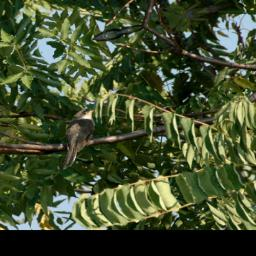Cuckoo: (36, 105, 120, 172)
